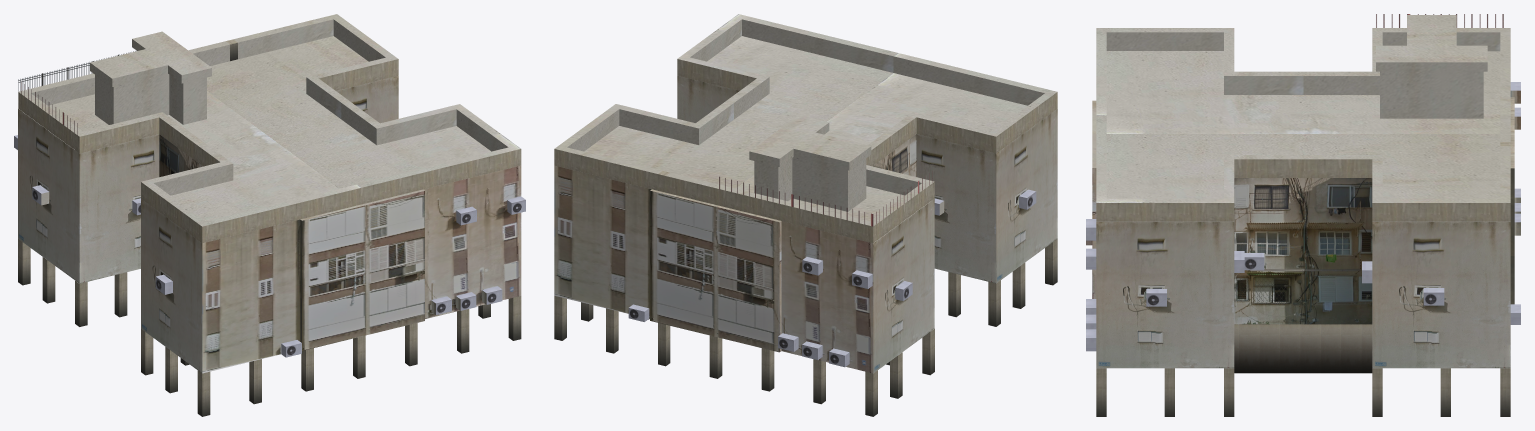
Rendered from BUILDINGFINALOLD2.gltf.
3 views of the same model, side by side, from view 1: azimuth 30°, elevation 25°; view 2: azimuth 150°, elevation 25°; view 3: azimuth 270°, elevation 25° (orthographic). The views are drawn at different scales.
Parts seen in each view (by area): view 1: node5, node7, node4, node1, node6, node2, node3, node10, node8; view 2: node5, node7, node4, node1, node6, node2, node3, node10, node9; view 3: node5, node4, node10, node1, node12, node6, node3, node2, node7, node11.
Part boxes in pixels (x1,y1,x2,y2): node5: [18, 14, 520, 226]; node7: [202, 165, 521, 373]; node4: [18, 75, 398, 373]; node1: [18, 39, 521, 282]; node6: [18, 42, 521, 416]; node2: [32, 187, 525, 357]; node3: [14, 135, 525, 357]; node10: [159, 134, 203, 176]; node8: [18, 51, 135, 91]; node5: [554, 14, 1057, 226]; node7: [554, 165, 873, 373]; node4: [677, 75, 1057, 373]; node1: [554, 59, 1057, 329]; node6: [554, 239, 1057, 416]; node2: [628, 192, 1036, 367]; node3: [629, 189, 1035, 366]; node10: [873, 134, 916, 176]; node9: [719, 171, 932, 226]; node5: [1092, 15, 1510, 202]; node4: [1096, 221, 1510, 368]; node10: [1234, 178, 1372, 324]; node1: [1096, 97, 1514, 221]; node12: [1234, 324, 1372, 373]; node6: [1096, 368, 1510, 416]; node3: [1086, 82, 1520, 351]; node2: [1146, 257, 1444, 306]; node7: [1086, 90, 1520, 298]; node11: [1510, 168, 1514, 304].
Bounding box in the file's own units: 21 × 13.5 × 21.
